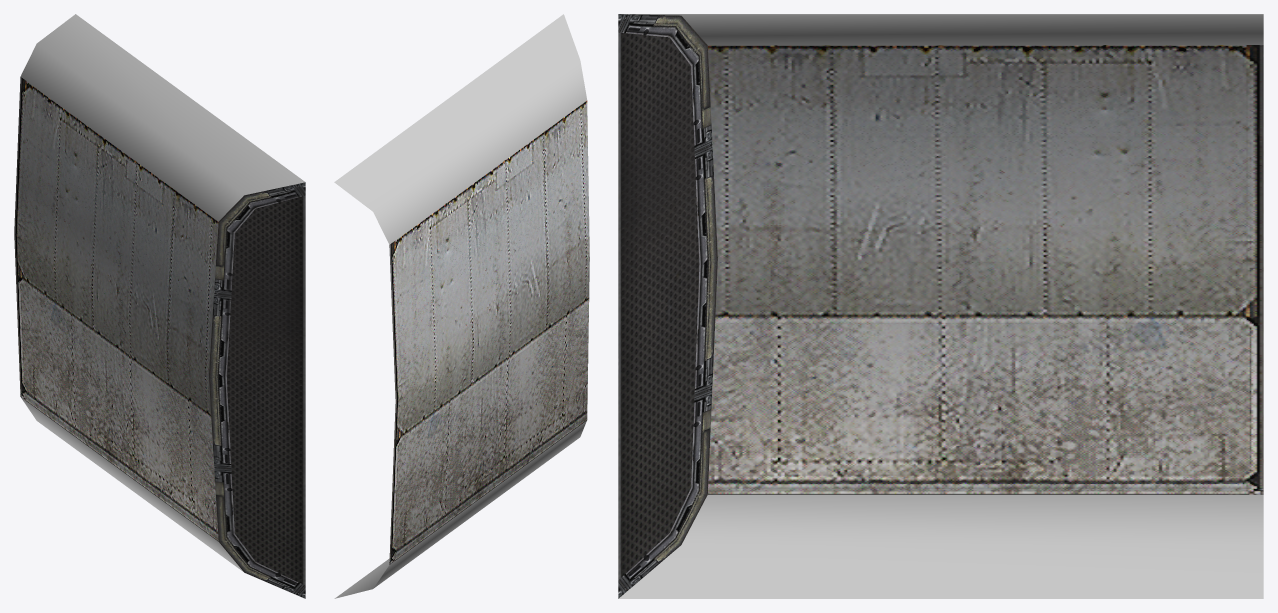
The model's file is Wall_D_Short2mts_03.fbx.
3 views of the same model, side by side, from view 1: azimuth 30°, elevation 25°; view 2: azimuth 150°, elevation 25°; view 3: azimuth 270°, elevation 25° (orthographic). The views are drawn at different scales.
Visible parts, largest first — view 1: Wall_D_Short2mts_03; view 2: Wall_D_Short2mts_03; view 3: Wall_D_Short2mts_03.
Part boxes in pixels (box(x1,y1,x2,y2)): Wall_D_Short2mts_03: box(14, 14, 305, 598); Wall_D_Short2mts_03: box(334, 14, 589, 598); Wall_D_Short2mts_03: box(618, 14, 1263, 598).
Size of the model in its own units: 30.95 by 200 by 200.
